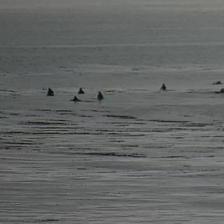surfer: (46, 88, 55, 96), (72, 95, 82, 102), (97, 91, 104, 100), (214, 88, 224, 94), (212, 80, 222, 85), (78, 87, 85, 94), (161, 84, 167, 91)
